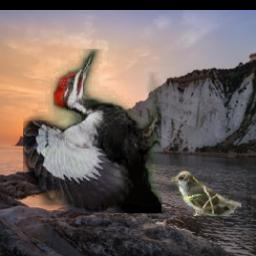Cuckoo: (170, 170, 241, 216)
Woodpecker: (23, 50, 162, 214)
